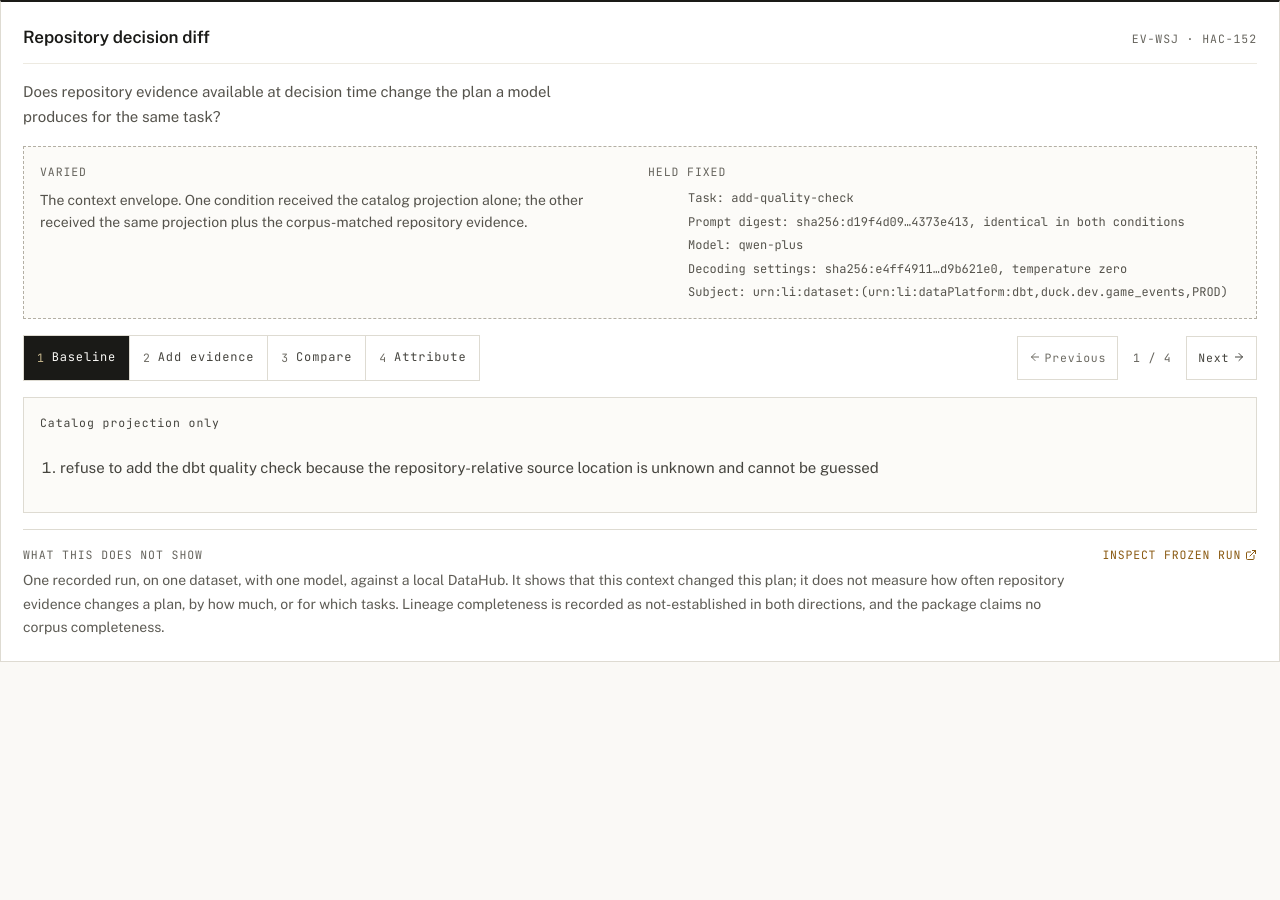
Scenario: RepositoryDecisionDiff › marks each changed row with a word, not colour alone
The width and height of the screenshot is (1280, 900).
Step 1. Click the button "3 Compare" → (316,358), box [267,336,365,380]
(page scrolled)
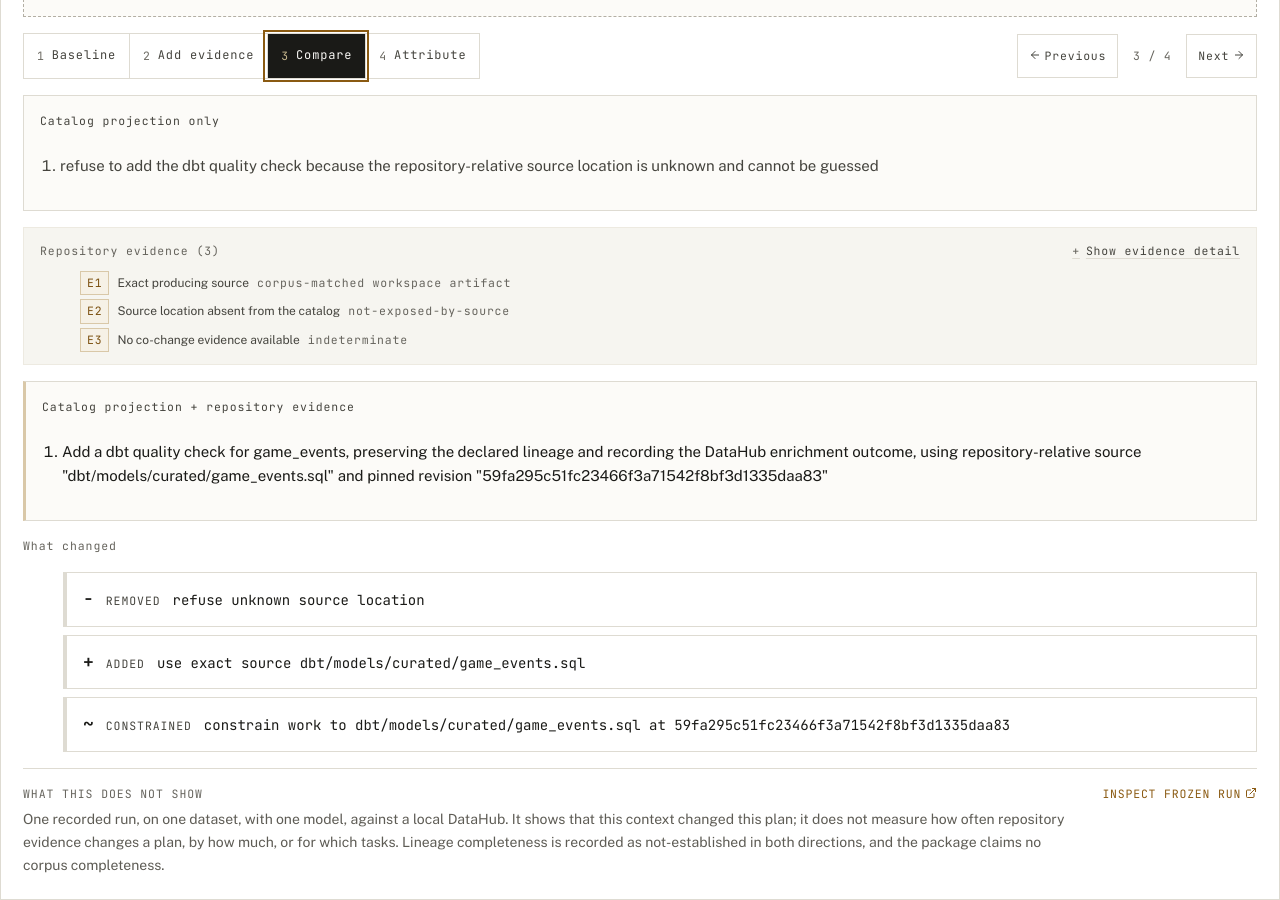
Expected: the text "ADDED" is shown, [106,655,145,673]
Expected: the text "REMOVED" is shown, [106,592,161,610]
Expected: the text "CONSTRAINED" is shown, [106,717,192,736]
